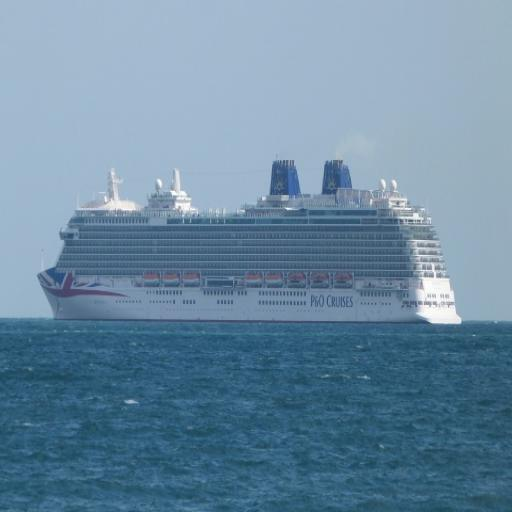cruises: (36, 157, 466, 333)
